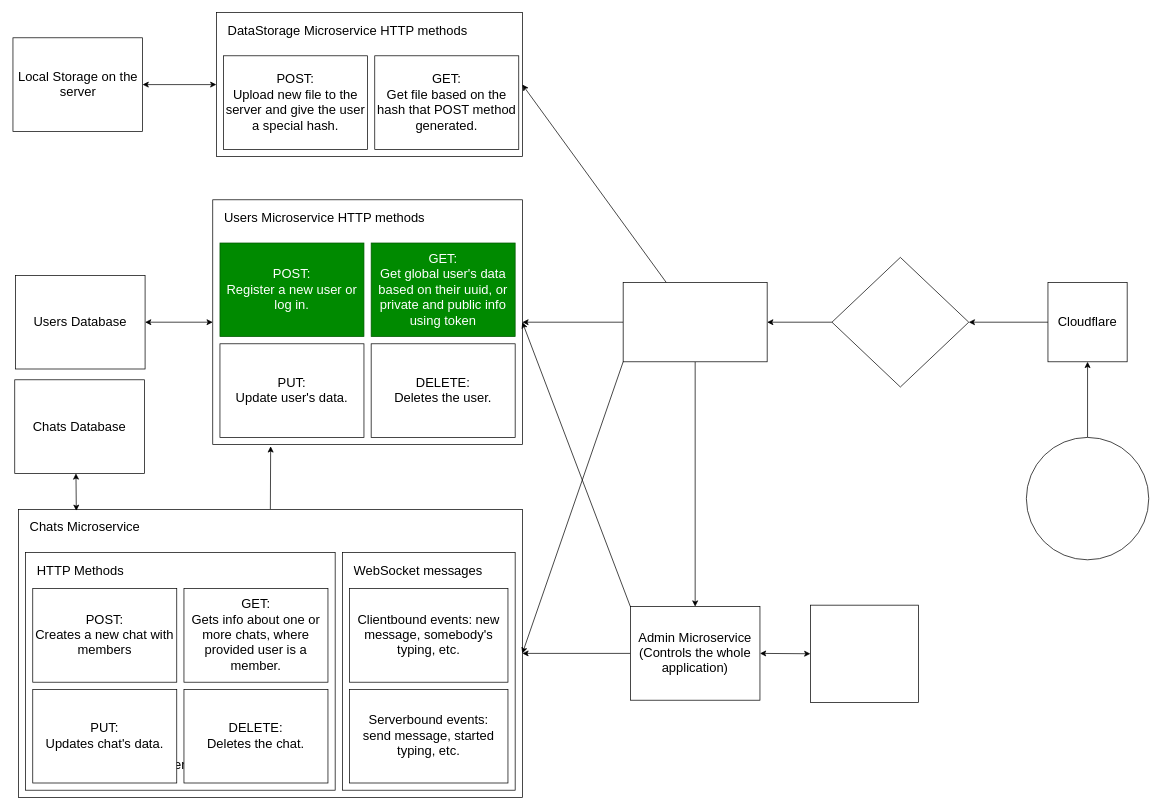
The diagram is 1161 pixels wide and 810 high, and some of its shapes have lost their labels. Here are the shapes that lost their labels. From the top down, the centre of each, then its label:
the point at 694,322: Allowed IPs based on subdomain of the messenger
the point at 900,322: Nginx
the point at 1087,498: Client (Browser)
the point at 864,653: Admin Session Token generator
